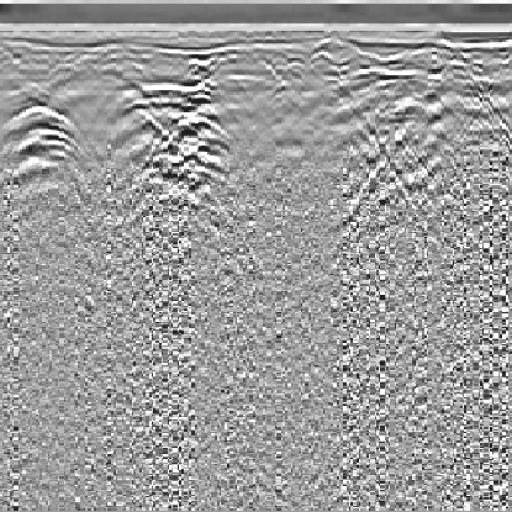metalic: (98, 51, 266, 259)
